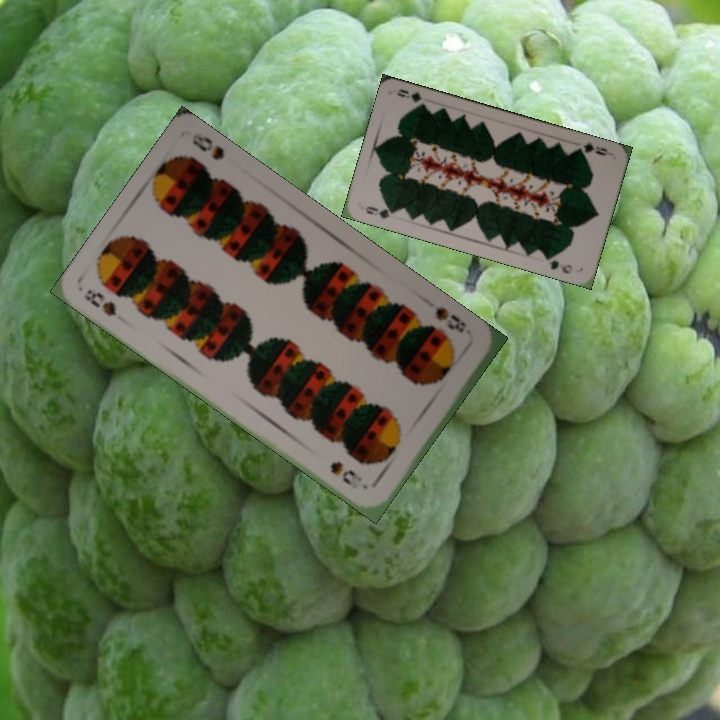G9: (572, 138, 614, 158), (361, 202, 399, 223)
S8: (80, 285, 119, 319), (431, 303, 469, 336)
